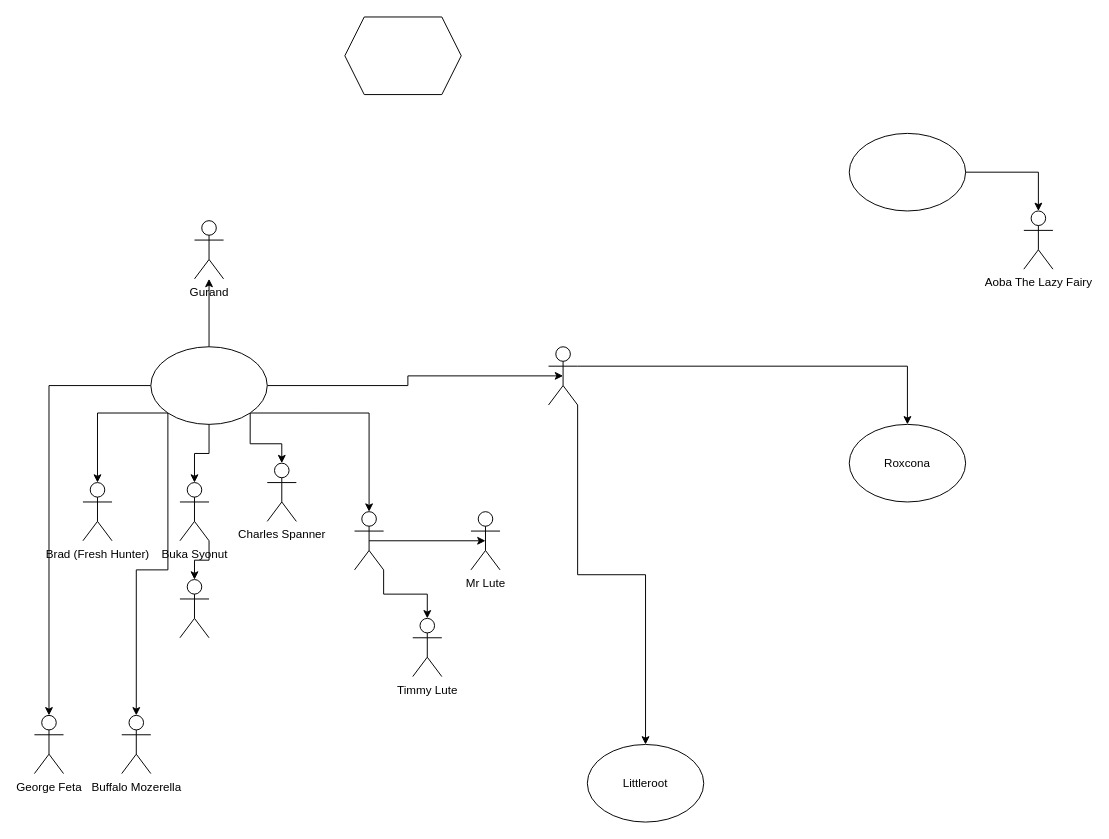
Some shapes in this 1109 by 839 pixel diagram are drawn without their labels. The box of each missing label's shape, as (x1, y1, x2, y2) in pixels:
Artises boldi: (548, 346, 578, 405)
Ballonlea: (848, 132, 966, 211)
Baratone: (344, 16, 461, 95)
Manny Ketchum (Dead): (179, 579, 209, 638)
Mrs Lute: (354, 511, 384, 570)
Mwania: (150, 346, 267, 424)
